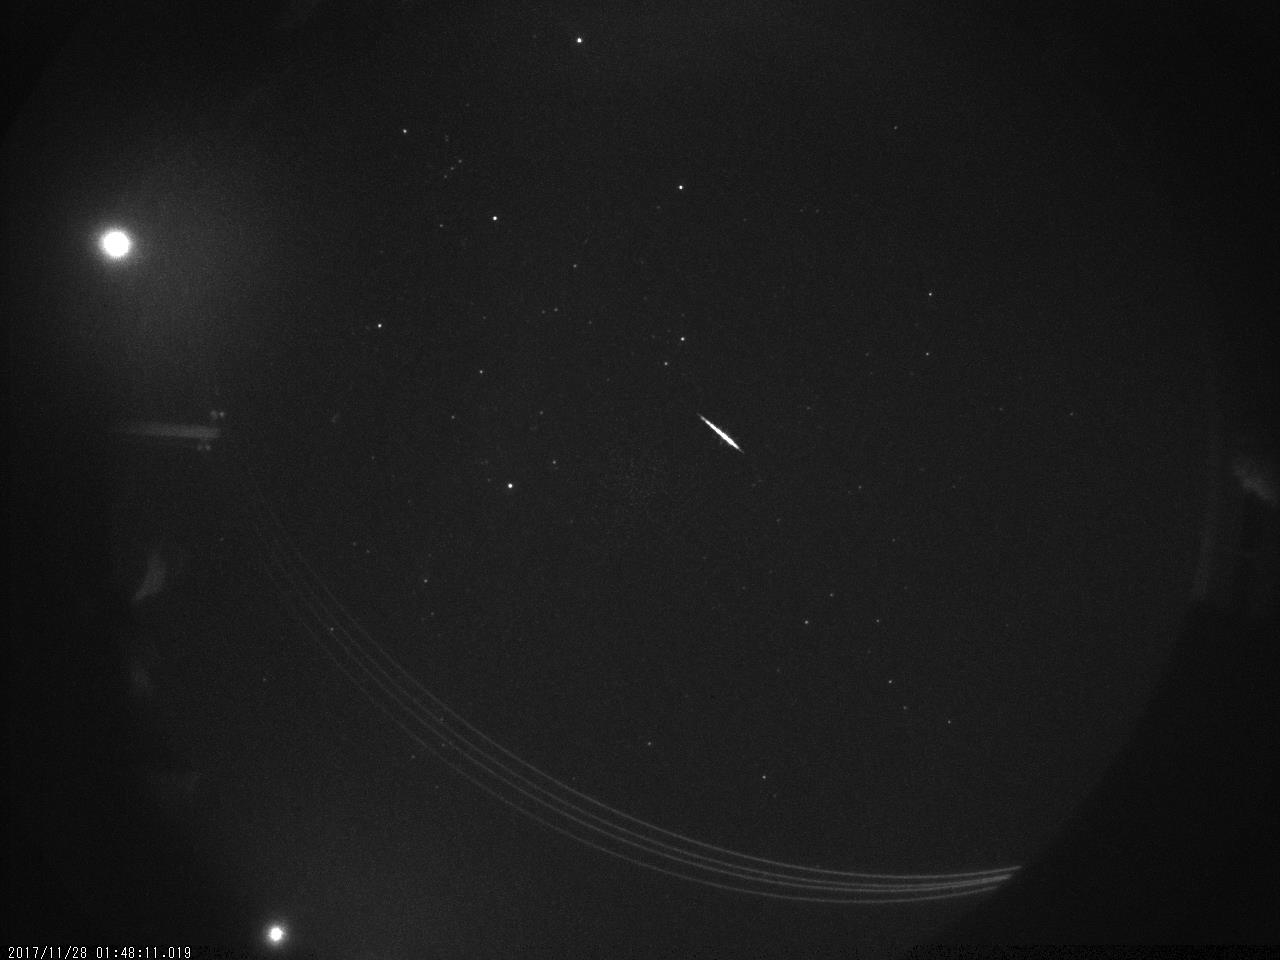meteor: (693, 403, 759, 464)
